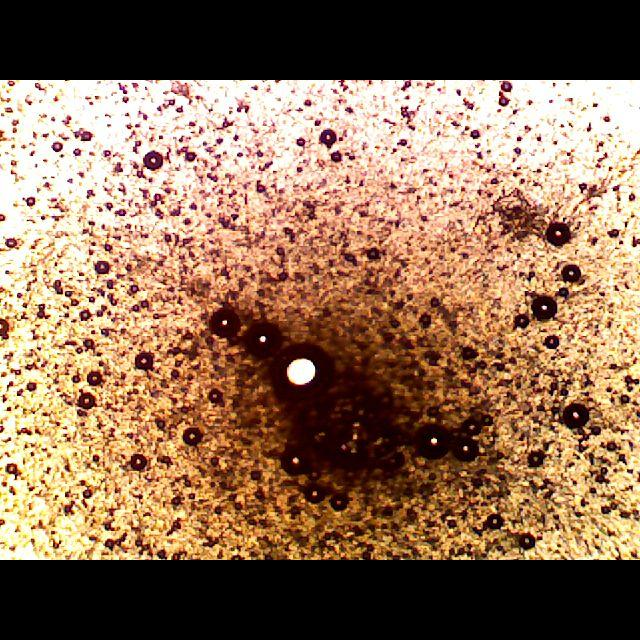microbeads: (265, 342, 335, 406)
